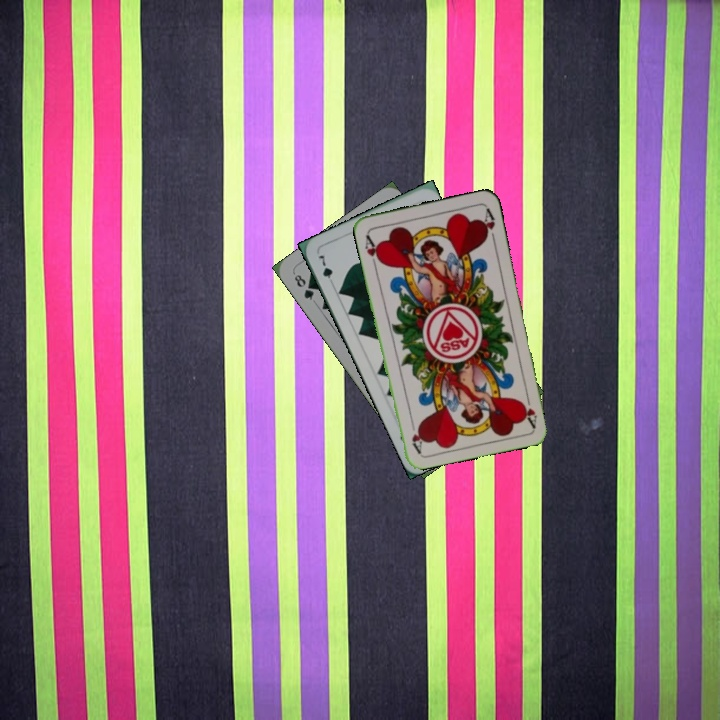G7: (312, 251, 337, 289)
G8: (290, 270, 317, 303)
HA: (517, 389, 540, 429), (361, 231, 384, 270)
